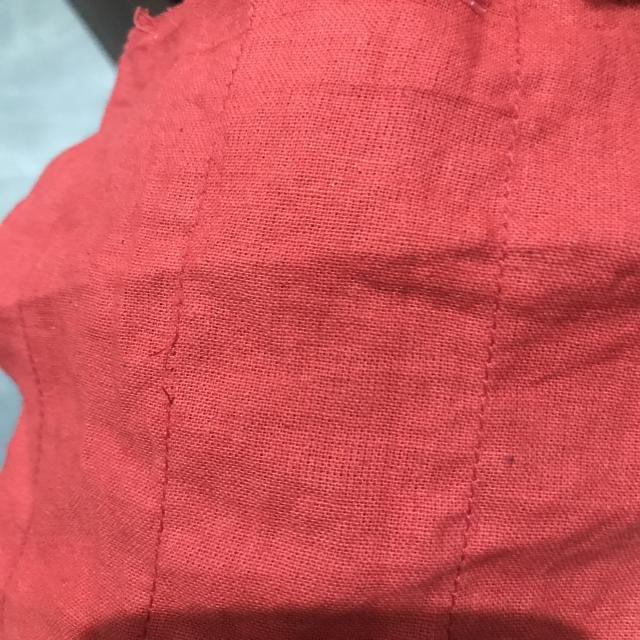broken: (150, 316, 203, 422)
good: (452, 347, 511, 476)
